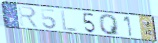1: (123, 16, 134, 38)
5: (40, 8, 57, 30), (82, 12, 97, 33)
L: (60, 9, 78, 33)
Q: (98, 14, 121, 36)
R: (17, 5, 41, 29)
